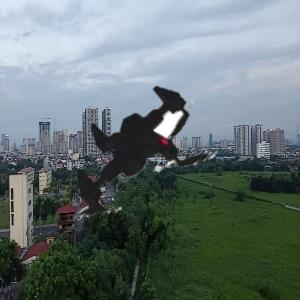drone: (25, 45, 260, 280)
